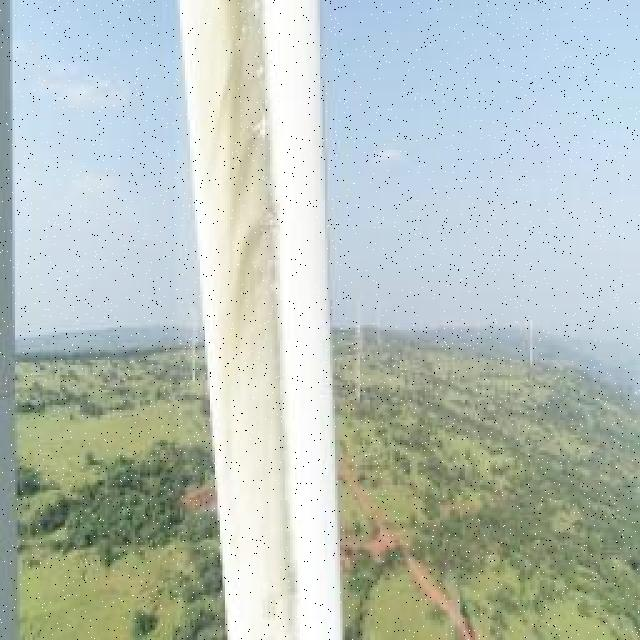Dirt: (183, 0, 304, 639)
